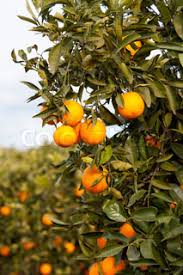orange: (114, 91, 147, 119), (81, 164, 111, 192), (60, 99, 85, 125), (78, 119, 106, 142), (52, 127, 77, 147)
